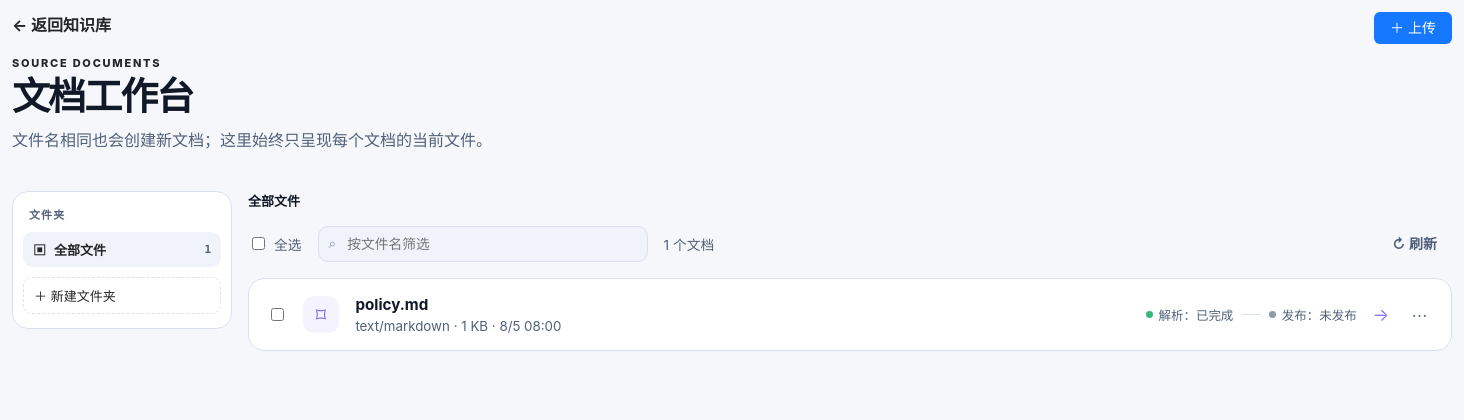
DocumentsView › creates a new folder stored in localStorage
Click the button "＋ 新建文件夹" at (122, 295), box [23, 277, 221, 314]
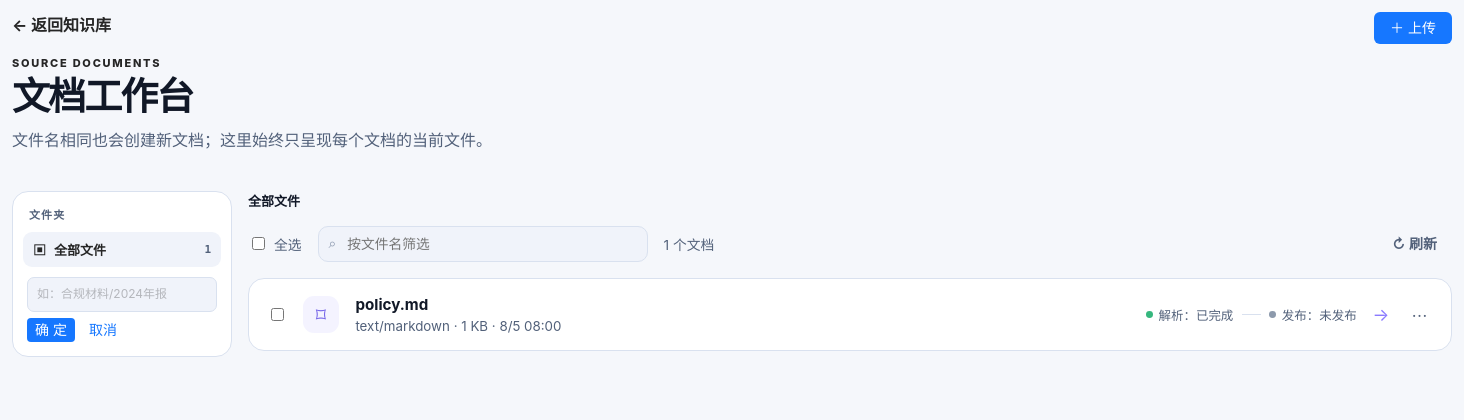
Expected: the field with test id "new-folder-input" is shown
Type "合规材料/2024年报" into the field with test id "new-folder-input" at (122, 294), box [27, 277, 217, 312]
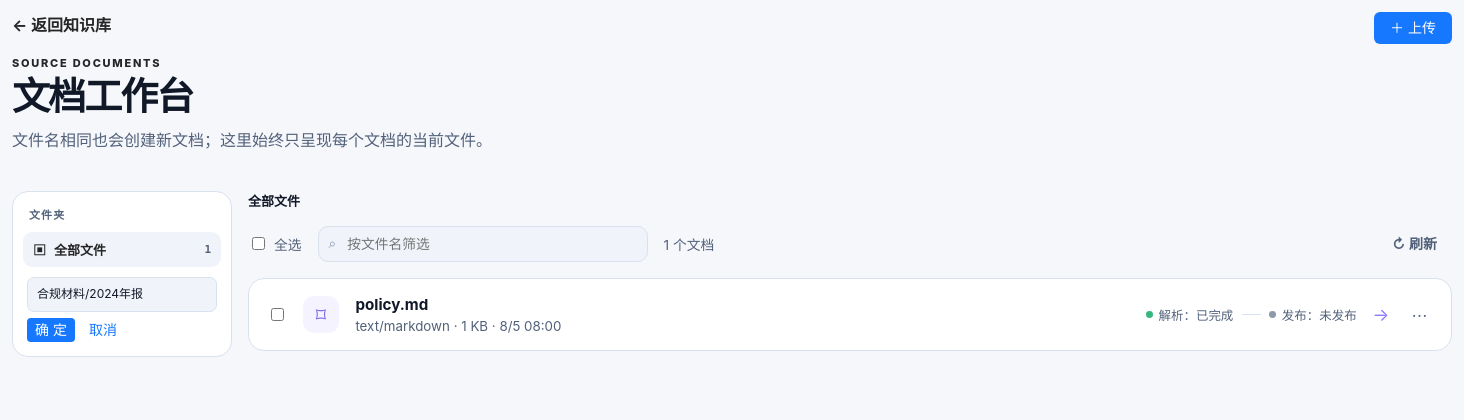
Click the button with test id "new-folder-confirm" at (51, 330), box [27, 318, 75, 342]
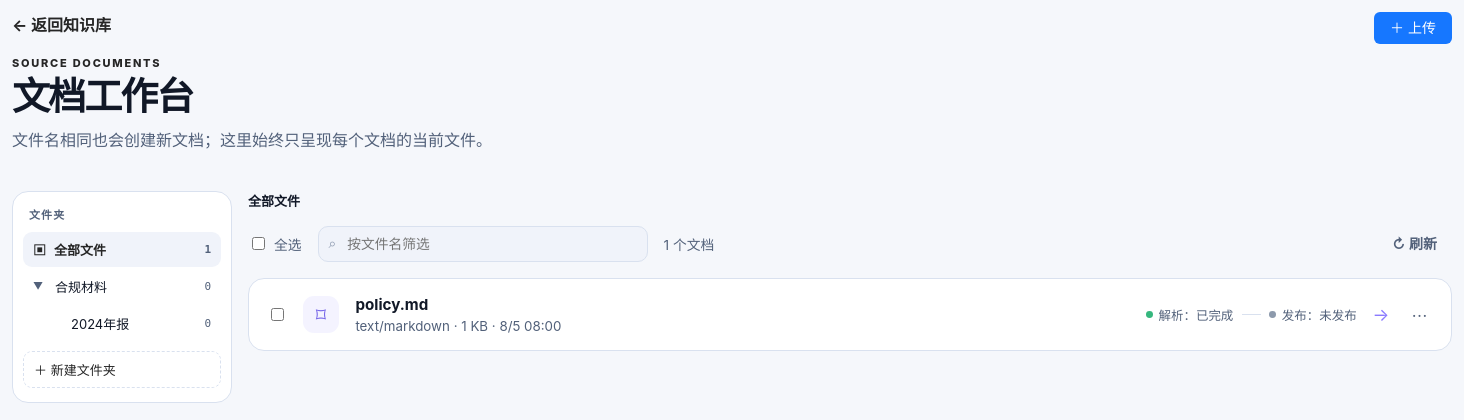
Expected: the text "合规材料" is shown, [55, 279, 107, 295]
